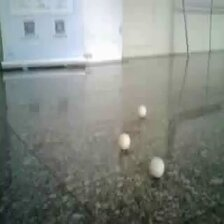tennis: (166, 97, 185, 123), (102, 72, 117, 90), (40, 61, 53, 79), (117, 57, 128, 70)
